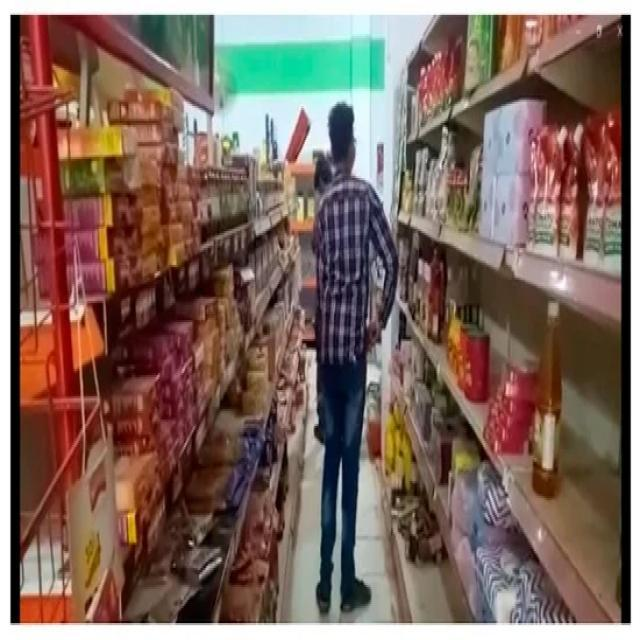shoplifting: (303, 93, 434, 603)
